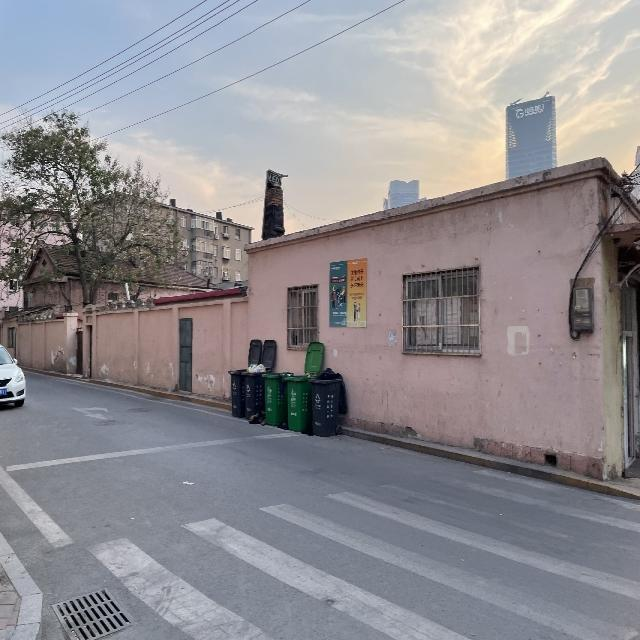garbage: (247, 410, 265, 425)
garbage_bin: (260, 370, 292, 425), (284, 374, 312, 430), (228, 367, 245, 417)
overflow: (308, 367, 347, 436), (242, 362, 266, 417)
